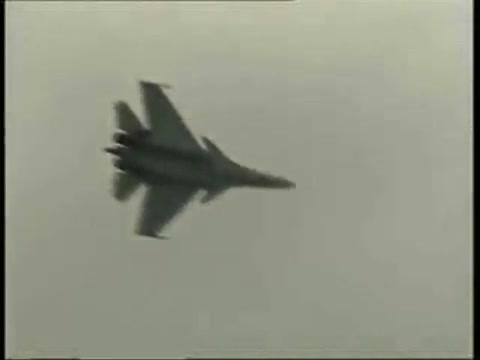aeroplane: (102, 81, 298, 241)
